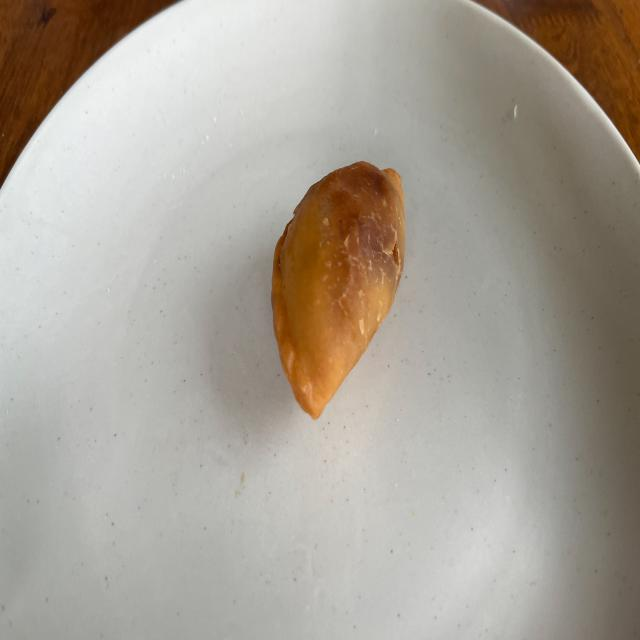karipap: (271, 162, 405, 420)
